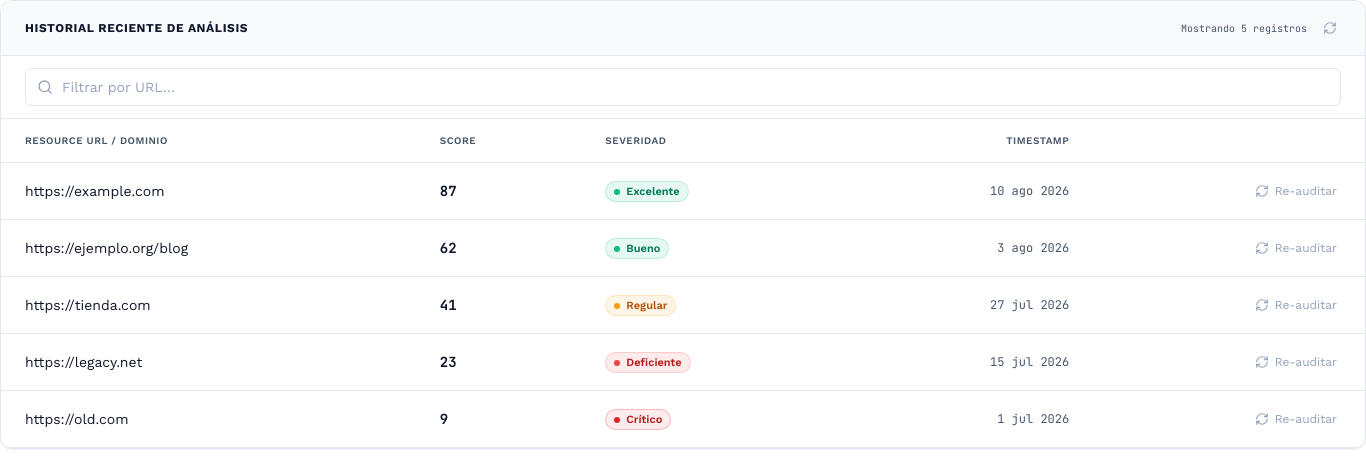
Test: AuditHistoryTable search (DSH-9) › filters rows by URL substring (case-insensitive)
Step 1. Type "EJEMPLO" into the search field labelled "Filtrar por URL" → (683, 87), box [25,68,1341,106]
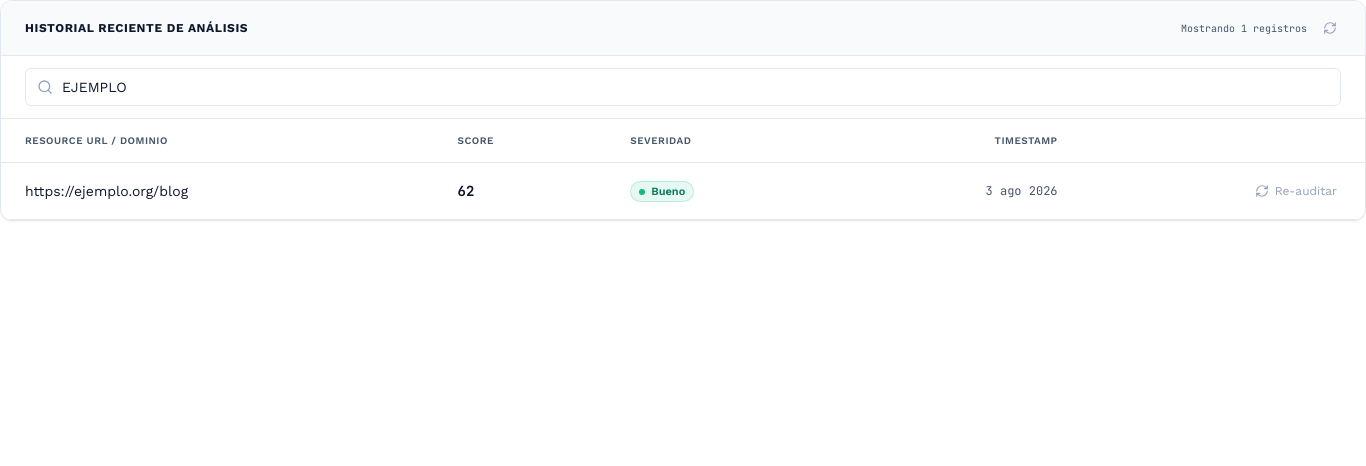
Check: the link "https://ejemplo.org/blog" is shown, box [25,181,188,201]
Check: the link "https://example.com" is gone
